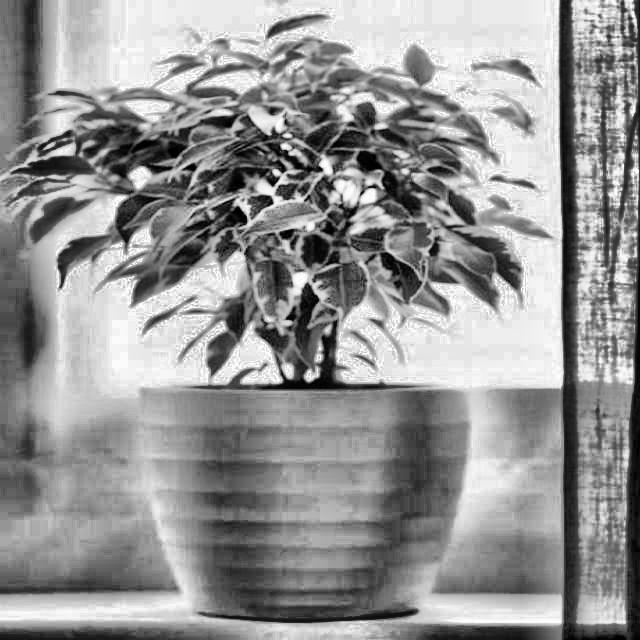plants: (75, 21, 473, 356)
